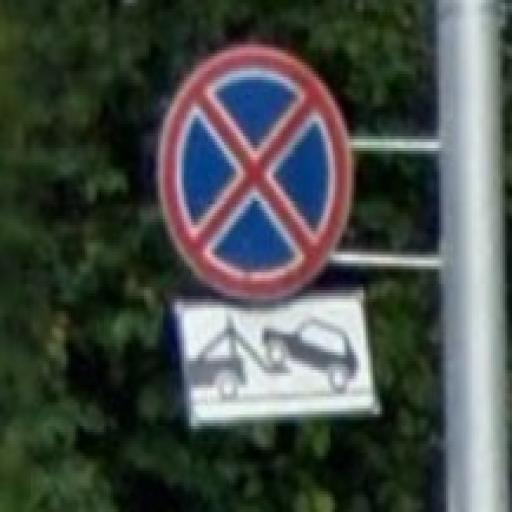traffic_sign: (157, 45, 355, 306)
